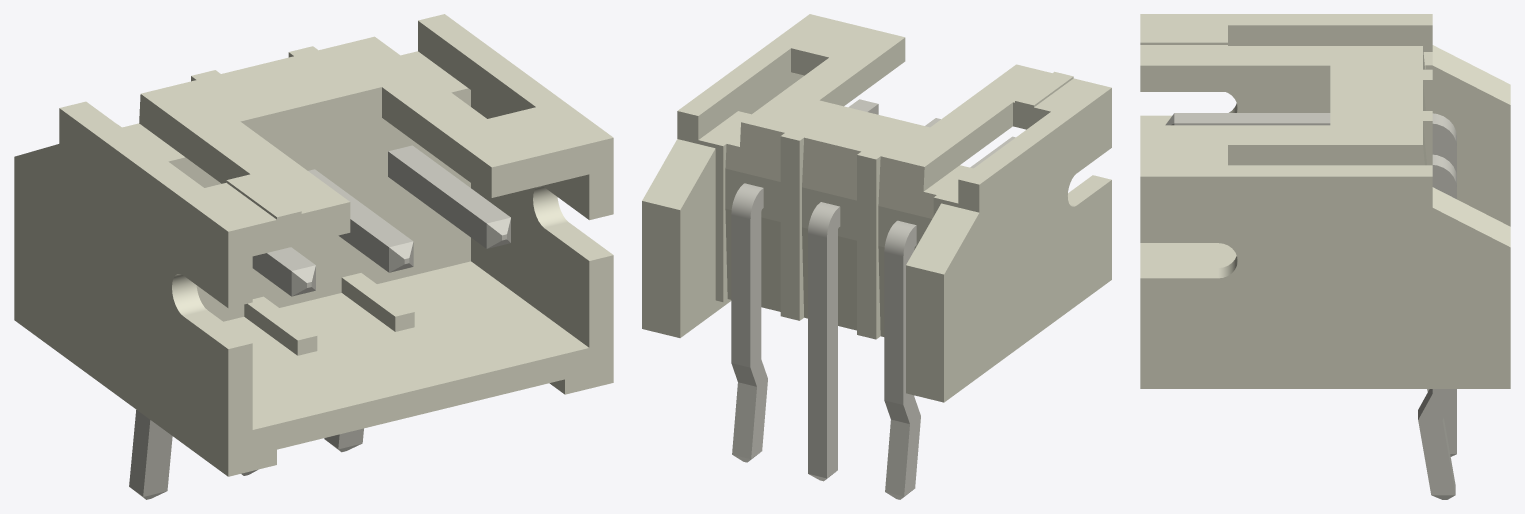
The model's file is Connector_JST__JST_PH_S3B-PH-K_1x03_P2.00mm_Horizontal.glb.
3 views of the same model, side by side, from view 1: azimuth 30°, elevation 25°; view 2: azimuth 150°, elevation 25°; view 3: azimuth 270°, elevation 25° (orthographic). The views are drawn at different scales.
Parts seen in each view (by area): view 1: JST_S3B_PH_K; view 2: JST_S3B_PH_K; view 3: JST_S3B_PH_K.
Part boxes in pixels (x1,y1,x2,y2): JST_S3B_PH_K: (14, 14, 613, 499); JST_S3B_PH_K: (642, 14, 1111, 499); JST_S3B_PH_K: (1140, 14, 1510, 499).
Bounding box in the file's own units: 0.0079 × 0.00825 × 0.0076.
